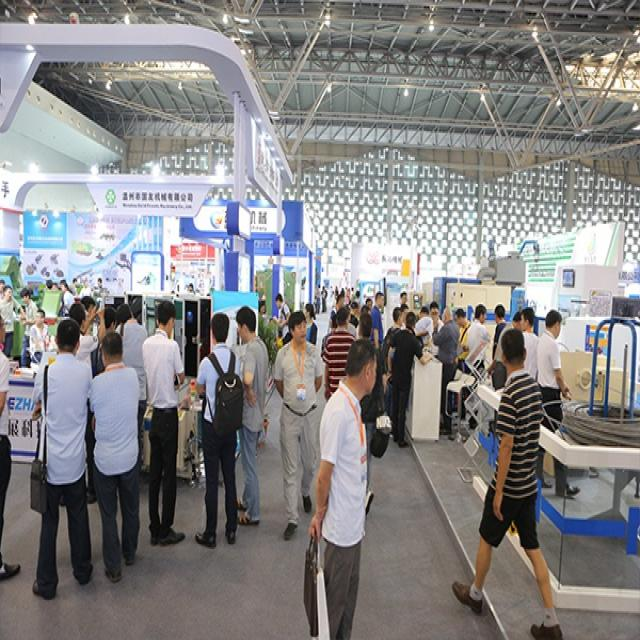body: (448, 325, 566, 638), (297, 334, 382, 638), (31, 316, 95, 602), (88, 330, 143, 586), (191, 308, 247, 550), (138, 296, 188, 549), (272, 309, 325, 544), (534, 307, 582, 496), (232, 302, 271, 528), (67, 299, 105, 504), (83, 306, 121, 507), (385, 307, 435, 450), (355, 310, 385, 517), (0, 310, 22, 585), (114, 301, 149, 472), (431, 304, 461, 435), (320, 306, 357, 406), (465, 301, 492, 432), (381, 306, 404, 442), (452, 308, 472, 422), (17, 286, 40, 369), (518, 306, 541, 384), (493, 309, 524, 365), (42, 275, 113, 299), (368, 290, 385, 390), (490, 302, 508, 392), (396, 288, 430, 331), (342, 283, 366, 339), (28, 307, 50, 365), (272, 292, 293, 351), (318, 312, 340, 363), (0, 284, 14, 358), (429, 300, 445, 358), (413, 306, 435, 347), (303, 300, 319, 346), (328, 293, 346, 333), (58, 280, 76, 317), (255, 298, 270, 338), (80, 294, 96, 318), (177, 324, 188, 358), (328, 282, 343, 300), (320, 283, 329, 312), (315, 282, 322, 314), (0, 275, 6, 299)
